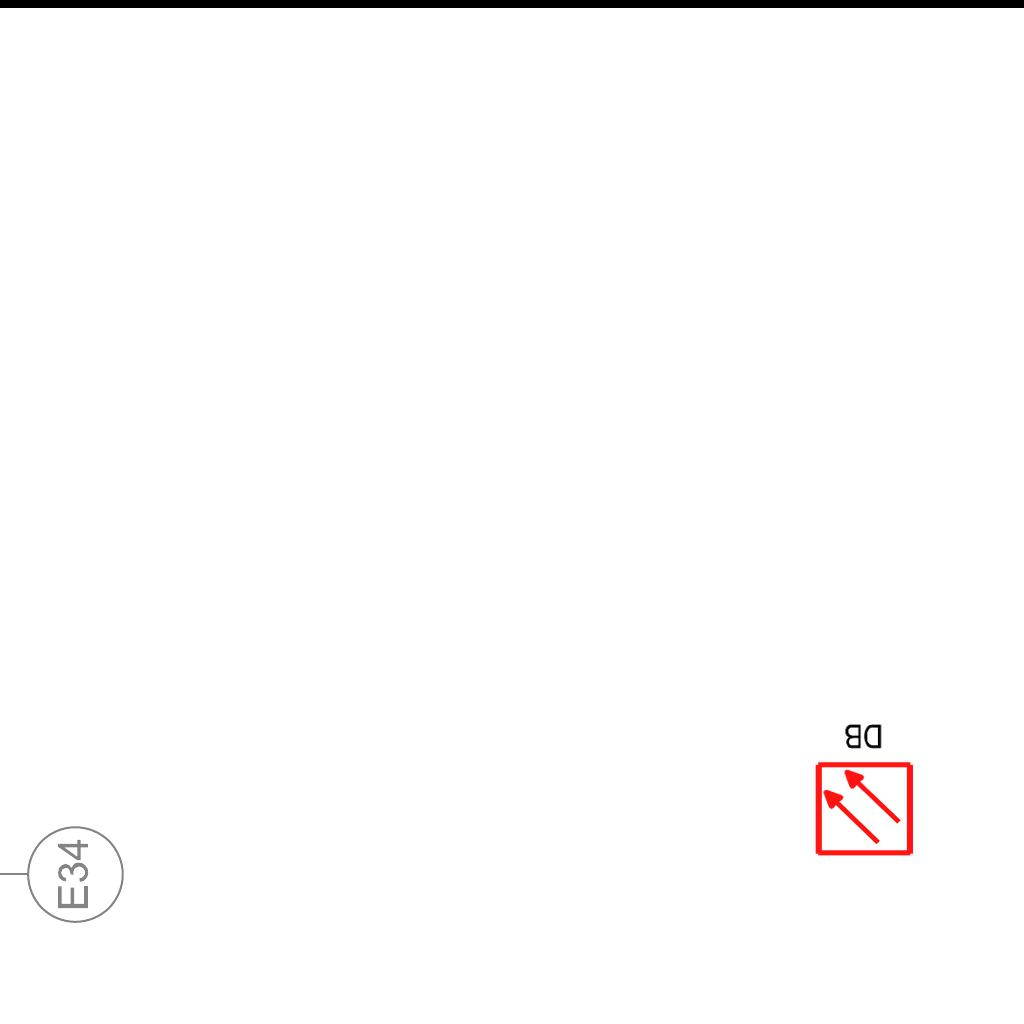DB_Melder_in_Doppelboden_mit_Revisionsoeffnung_mind_40_x_40_cm: (806, 714, 920, 863)
